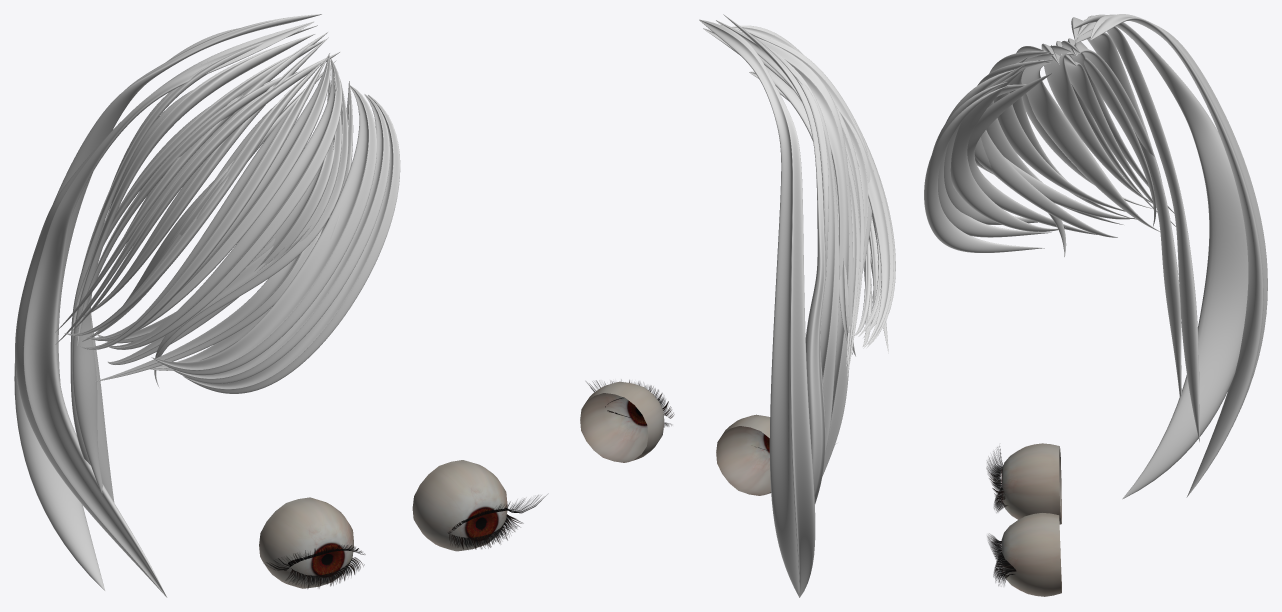
File: headi.glb
The picture shows the model from 3 angles, left to right: view 1: azimuth 30°, elevation 25°; view 2: azimuth 150°, elevation 25°; view 3: azimuth 270°, elevation 25°; orthographic projection. The views are drawn at different scales.
Visible parts, largest first — view 1: NurbsPath.043, Eyes, NurbsPath.008, NurbsPath.042, NurbsPath.040, NurbsPath.003, NurbsPath.002, NurbsPath.007, NurbsPath.013, NurbsPath.011, NurbsPath.041, NurbsPath.012 (+13 smaller); view 2: NurbsPath.042, Eyes, NurbsPath.043, NurbsPath.040, NurbsPath.041, NurbsPath.012, NurbsPath.015, NurbsPath.018, NurbsPath.017, NurbsPath.016, NurbsPath.011, NurbsPath.004 (+5 smaller); view 3: NurbsPath.043, NurbsPath.042, Eyes, NurbsPath.041, NurbsPath.040, NurbsPath.017, NurbsPath.002, NurbsPath.001, NurbsPath.014, NurbsPath.005, NurbsPath.011, NurbsPath.009 (+12 smaller).
Part boxes in pixels (box(x1,y1,x2,y2)): NurbsPath.043: box(15, 21, 313, 597); Eyes: box(259, 460, 507, 588); NurbsPath.008: box(151, 85, 376, 375); NurbsPath.042: box(14, 14, 321, 590); NurbsPath.040: box(72, 34, 314, 496); NurbsPath.003: box(109, 58, 342, 349); NurbsPath.002: box(183, 94, 400, 393); NurbsPath.007: box(174, 94, 389, 383); NurbsPath.013: box(80, 53, 329, 349); NurbsPath.011: box(87, 54, 330, 341); NurbsPath.041: box(70, 25, 317, 502); NurbsPath.012: box(64, 61, 323, 336); NurbsPath.042: box(699, 19, 815, 597); Eyes: box(580, 381, 771, 495); NurbsPath.043: box(723, 14, 828, 503); NurbsPath.040: box(754, 36, 853, 476); NurbsPath.041: box(716, 20, 839, 453); NurbsPath.012: box(746, 30, 893, 348); NurbsPath.015: box(729, 47, 852, 354); NurbsPath.018: box(703, 28, 859, 366); NurbsPath.017: box(839, 111, 872, 272); NurbsPath.016: box(834, 102, 864, 330); NurbsPath.011: box(731, 25, 881, 338); NurbsPath.004: box(854, 240, 870, 335); NurbsPath.043: box(1073, 14, 1248, 499); NurbsPath.042: box(1090, 14, 1267, 497); Eyes: box(1001, 443, 1061, 596); NurbsPath.041: box(1077, 15, 1199, 441); NurbsPath.040: box(1071, 17, 1181, 396); NurbsPath.017: box(1021, 60, 1160, 231); NurbsPath.002: box(924, 85, 1044, 252); NurbsPath.001: box(950, 70, 1065, 231); NurbsPath.014: box(1044, 45, 1152, 203); NurbsPath.005: box(967, 73, 1097, 234); NurbsPath.011: box(989, 51, 1125, 211); NurbsPath.009: box(981, 84, 1117, 237).
Size of the model in its own units: 3.46 by 4.75 by 2.76.
2 materials, 2 textured.
